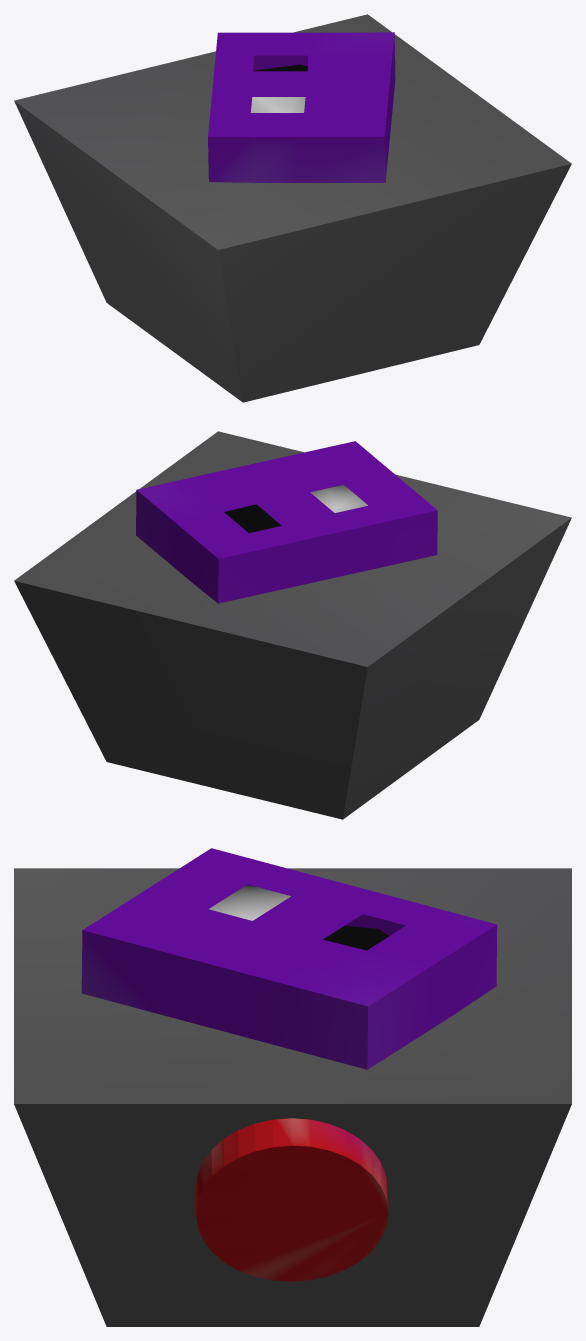
The model's file is caixaarmas (1).fbx.
3 renders of one model, top to bottom at view 1: azimuth 30°, elevation 25°; view 2: azimuth 150°, elevation 25°; view 3: azimuth 270°, elevation 25°, orthographic. The views are drawn at different scales.
Parts seen in each view (by area): view 1: Cube; view 2: Cube; view 3: Cube.
Boxes of the visible parts, x1,y1,x2,y2 form: Cube: (14, 14, 571, 402); Cube: (14, 431, 571, 819); Cube: (14, 848, 571, 1326).
Size of the model in its own units: 211 by 130 by 200.
